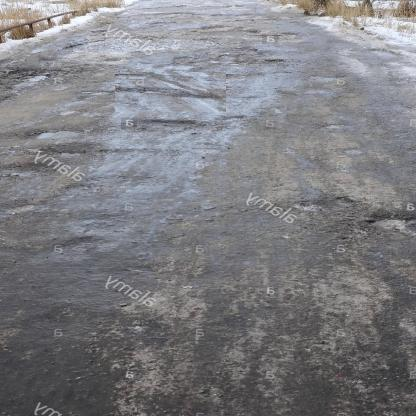damage: (113, 72, 226, 113), (0, 62, 75, 105)
